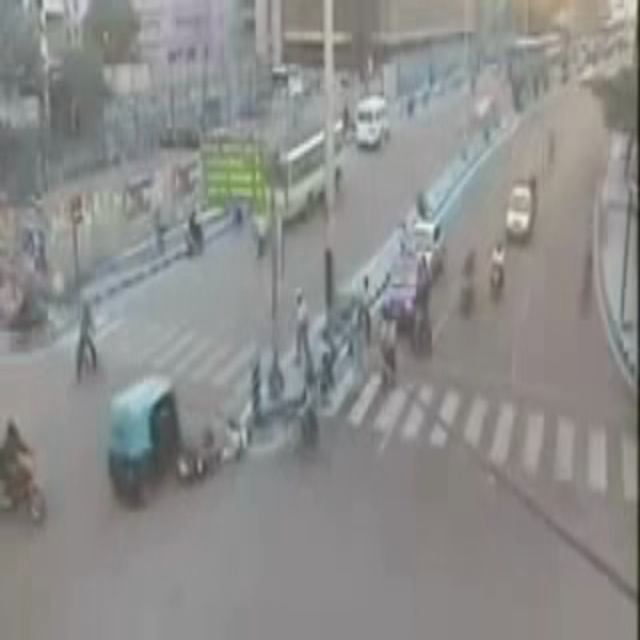acc: (103, 380, 213, 507)
